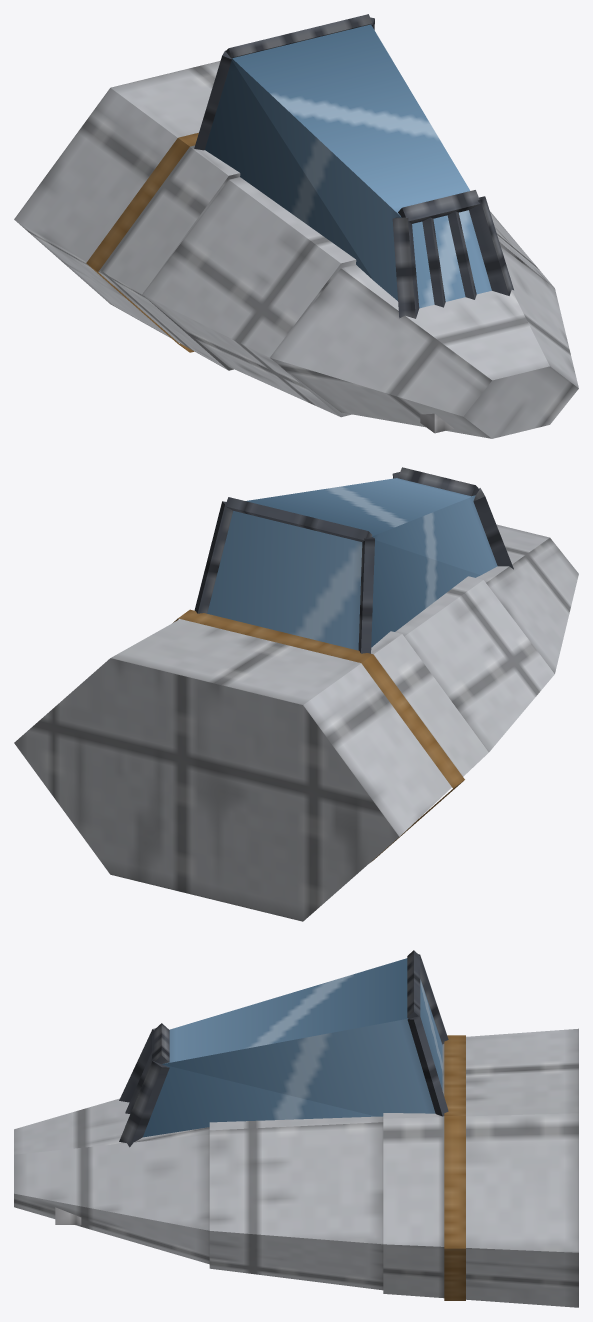
Rendered from ship_bubble_cockpit.obj.
The picture shows the model from 3 angles, top to bottom: view 1: azimuth 30°, elevation 25°; view 2: azimuth 150°, elevation 25°; view 3: azimuth 270°, elevation 25°; orthographic projection. The views are drawn at different scales.
Parts seen in each view (by area): view 1: nose, canopy, frame, ring; view 2: nose, canopy, frame, ring; view 3: nose, canopy, frame, ring.
Boxes of the visible parts, bbox=[...] form: nose: bbox=[14, 61, 578, 438]; canopy: bbox=[205, 24, 491, 308]; frame: bbox=[194, 14, 513, 318]; ring: bbox=[86, 132, 198, 352]; nose: bbox=[14, 524, 578, 921]; canopy: bbox=[207, 478, 497, 650]; frame: bbox=[194, 467, 513, 653]; ring: bbox=[173, 609, 464, 862]; nose: bbox=[14, 1028, 578, 1307]; canopy: bbox=[143, 958, 442, 1137]; frame: bbox=[119, 950, 448, 1147]; ring: bbox=[444, 1035, 465, 1300].
Size of the model in its own units: 1.84 by 1.45 by 2.6.
Materials: 5 (5 with a texture image).
